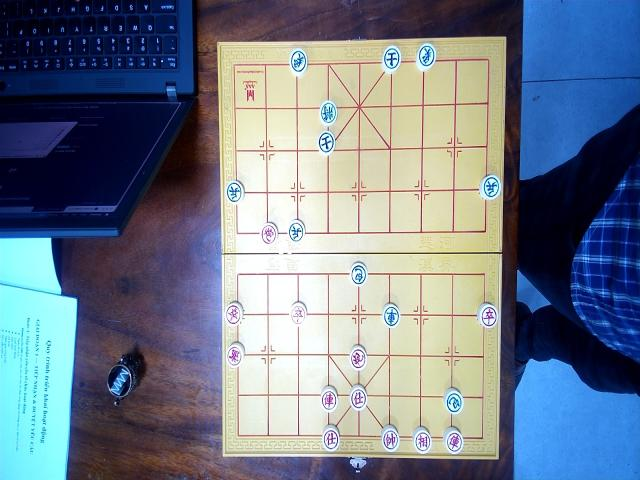piece: (476, 301, 498, 328), (478, 173, 500, 200), (412, 426, 432, 454), (442, 386, 462, 414), (381, 44, 401, 72), (416, 42, 436, 70), (380, 425, 400, 452), (442, 427, 462, 453), (226, 341, 245, 368), (322, 424, 341, 451), (349, 344, 368, 371), (225, 301, 244, 327), (320, 385, 338, 412), (349, 384, 367, 411), (289, 48, 307, 75), (382, 302, 401, 327), (319, 99, 337, 125), (350, 261, 368, 286), (225, 179, 243, 204), (317, 131, 335, 155), (290, 300, 306, 324), (260, 222, 277, 244), (288, 219, 304, 242)
